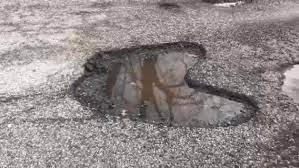pothole: (72, 38, 259, 132), (274, 35, 299, 118), (197, 0, 261, 9), (157, 2, 184, 12)
